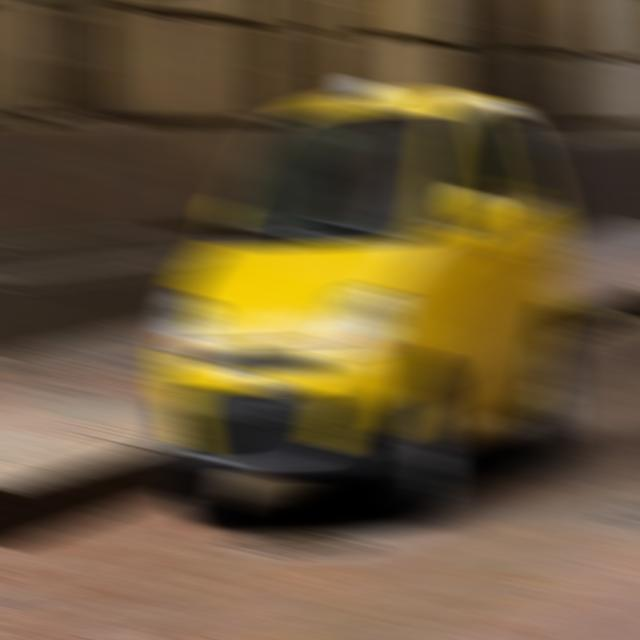Taxi: (151, 48, 580, 538)
